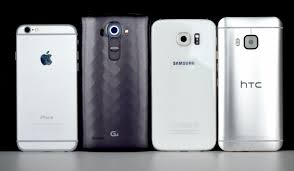htc: (216, 15, 285, 153)
